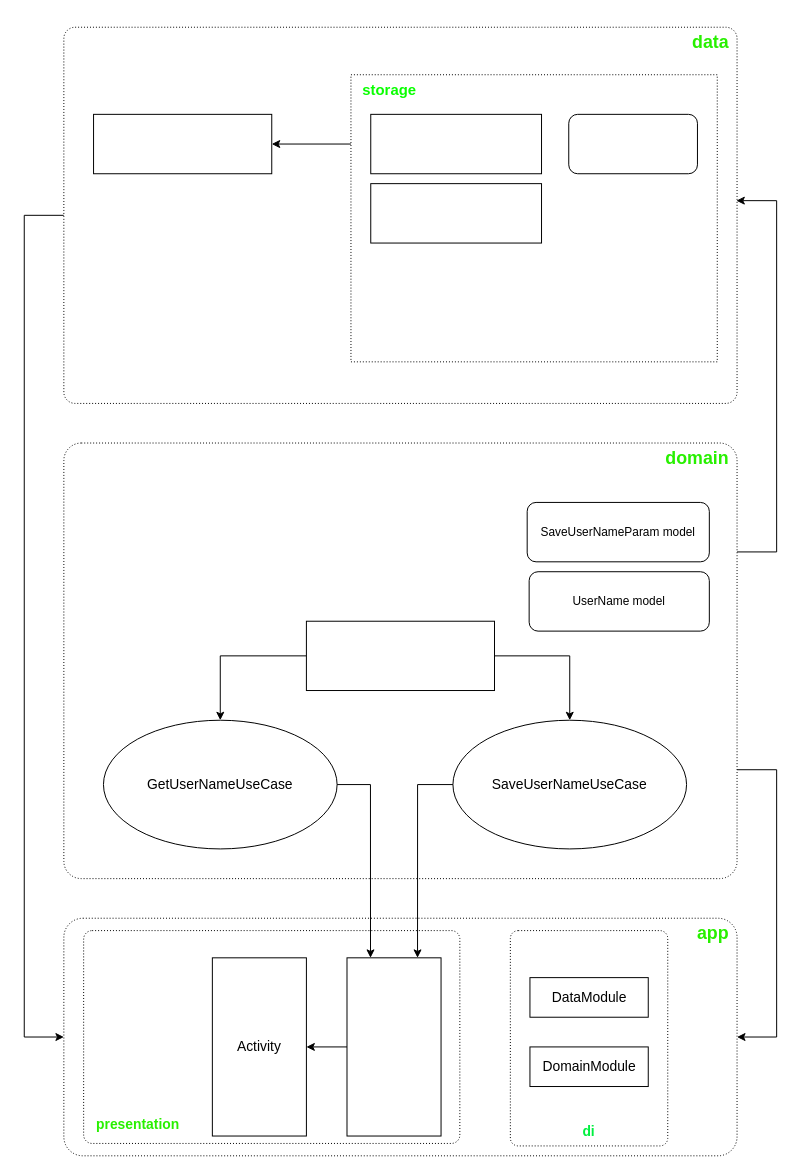
Image size: 802x1173. Some labels were removed from this diagram. The shapes that lost their labels are listed below. From the top down, each one's centre as x and y in pixels, then its label:
At point (182, 143): "UserRepositoryImpl implementation".
At point (456, 143): "UserStorage interface".
At point (632, 143): "User model".
At point (456, 213): "SharedPrefUserStorage implementation".
At point (400, 655): "UserRepository interface".
At point (393, 1046): "viewModel".
